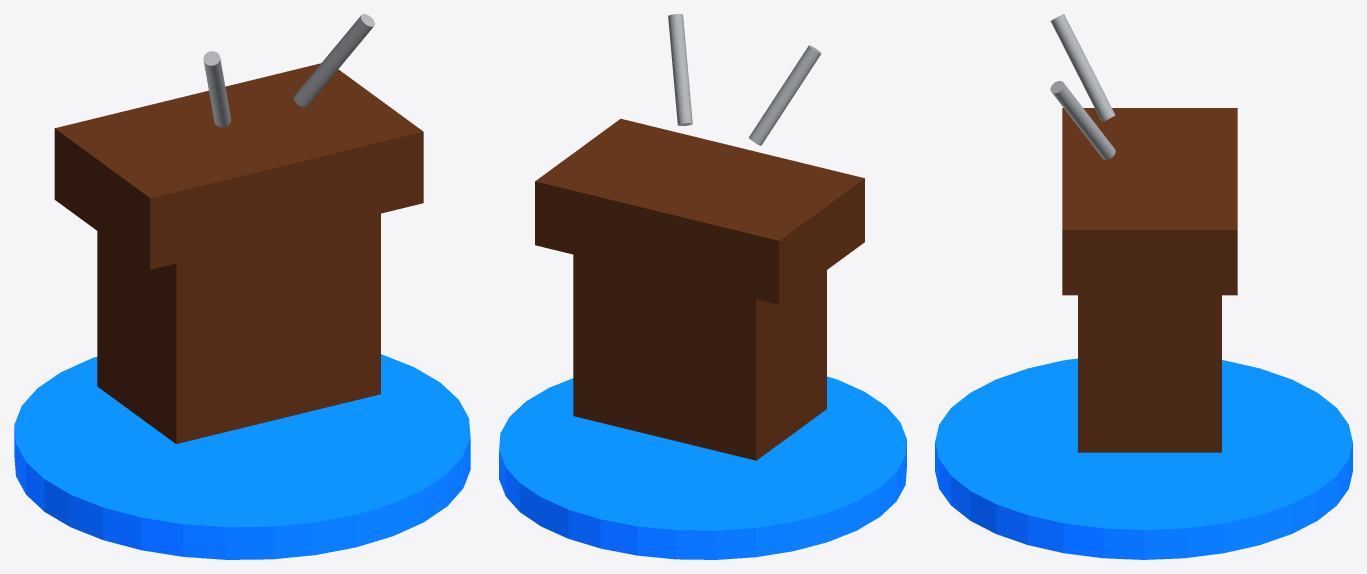
The model's file is news_podium.dae.
3 renders of one model, left to right at view 1: azimuth 30°, elevation 25°; view 2: azimuth 150°, elevation 25°; view 3: azimuth 270°, elevation 25°, orthographic. The views are drawn at different scales.
Parts seen in each view (by area): view 1: 09_19_Popular_News_Podium_ROOT_base, 09_19_Popular_News_Podium_part_02, 09_19_Popular_News_Podium_part_01, 09_19_Popular_News_Podium_part_04, 09_19_Popular_News_Podium_part_03; view 2: 09_19_Popular_News_Podium_ROOT_base, 09_19_Popular_News_Podium_part_02, 09_19_Popular_News_Podium_part_01, 09_19_Popular_News_Podium_part_04, 09_19_Popular_News_Podium_part_03; view 3: 09_19_Popular_News_Podium_ROOT_base, 09_19_Popular_News_Podium_part_02, 09_19_Popular_News_Podium_part_01, 09_19_Popular_News_Podium_part_03, 09_19_Popular_News_Podium_part_04.
Part boxes in pixels (<box>): 09_19_Popular_News_Podium_ROOT_base: <box>14,354,470,559</box>; 09_19_Popular_News_Podium_part_02: <box>54,63,423,269</box>; 09_19_Popular_News_Podium_part_01: <box>97,213,380,443</box>; 09_19_Popular_News_Podium_part_04: <box>293,14,374,107</box>; 09_19_Popular_News_Podium_part_03: <box>203,51,230,127</box>; 09_19_Popular_News_Podium_ROOT_base: <box>499,376,906,559</box>; 09_19_Popular_News_Podium_part_02: <box>535,119,864,304</box>; 09_19_Popular_News_Podium_part_01: <box>573,254,826,460</box>; 09_19_Popular_News_Podium_part_04: <box>668,14,692,125</box>; 09_19_Popular_News_Podium_part_03: <box>748,45,821,145</box>; 09_19_Popular_News_Podium_ROOT_base: <box>935,358,1352,559</box>; 09_19_Popular_News_Podium_part_02: <box>1062,108,1237,295</box>; 09_19_Popular_News_Podium_part_01: <box>1078,295,1221,452</box>; 09_19_Popular_News_Podium_part_03: <box>1050,14,1115,121</box>; 09_19_Popular_News_Podium_part_04: <box>1050,81,1115,159</box>.
Size of the model in its own units: 0.76 by 0.85 by 0.76.
